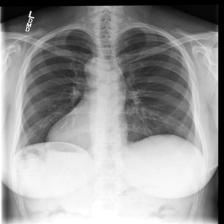normal: (13, 20, 206, 158)
